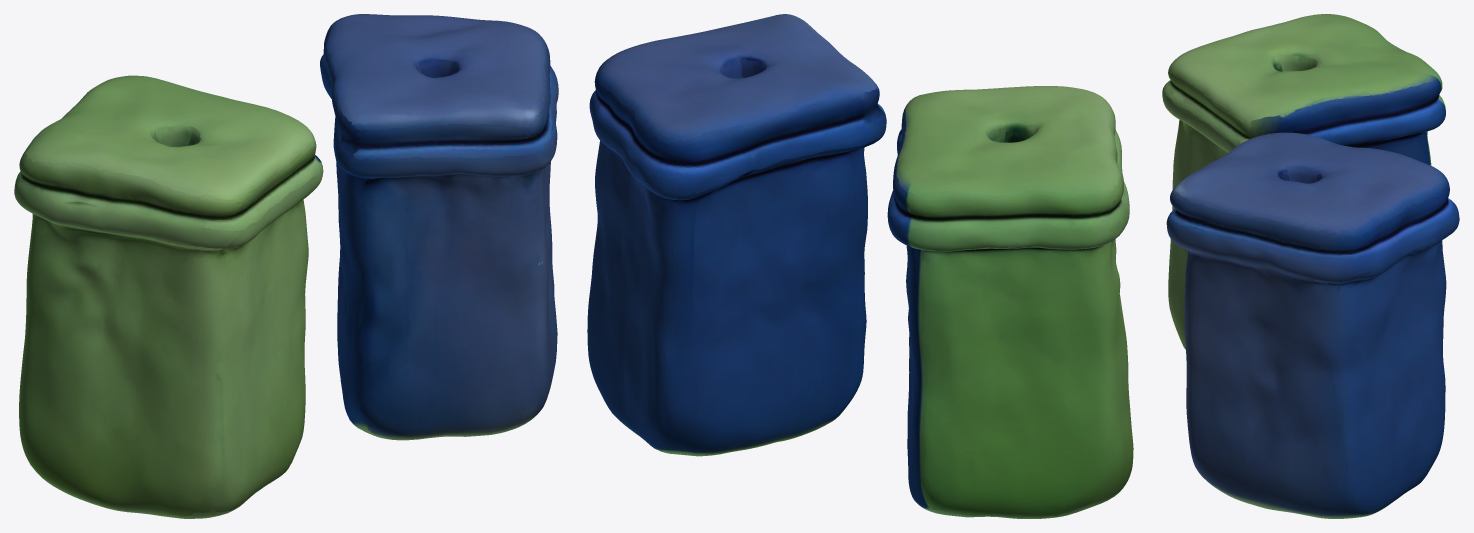
File: bins.glb
The picture shows the model from 3 angles, left to right: view 1: azimuth 30°, elevation 25°; view 2: azimuth 150°, elevation 25°; view 3: azimuth 270°, elevation 25°; orthographic projection. The views are drawn at different scales.
Parts seen in each view (by area): view 1: tmp1cv1kd6t.ply; view 2: tmp1cv1kd6t.ply; view 3: tmp1cv1kd6t.ply.
Part boxes in pixels (box(x1,y1,x2,y2)): tmp1cv1kd6t.ply: box(14, 14, 558, 518); tmp1cv1kd6t.ply: box(587, 14, 1133, 518); tmp1cv1kd6t.ply: box(1162, 14, 1459, 518).
Bounding box in the file's own units: 0.9871 × 0.6399 × 0.5456.
Materials: 1 (1 with a texture image).
